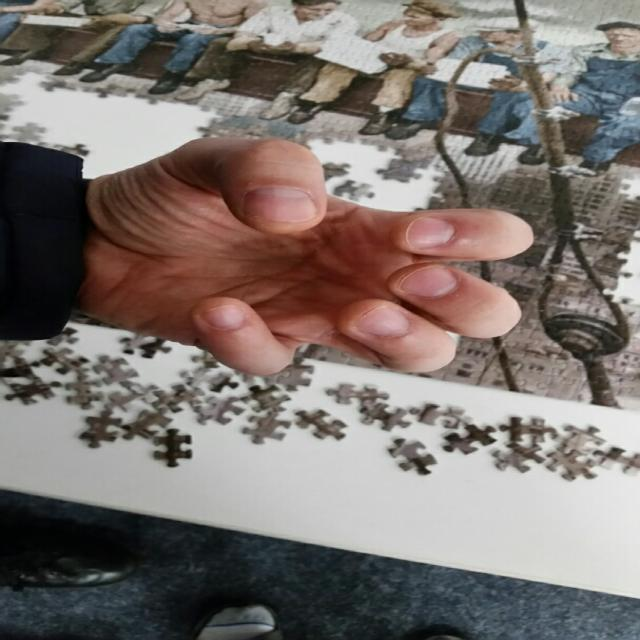Nail: (244, 187, 317, 221), (400, 266, 456, 296), (357, 305, 409, 336), (407, 217, 455, 247), (202, 305, 243, 328)
